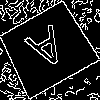A: (23, 24, 74, 80)
